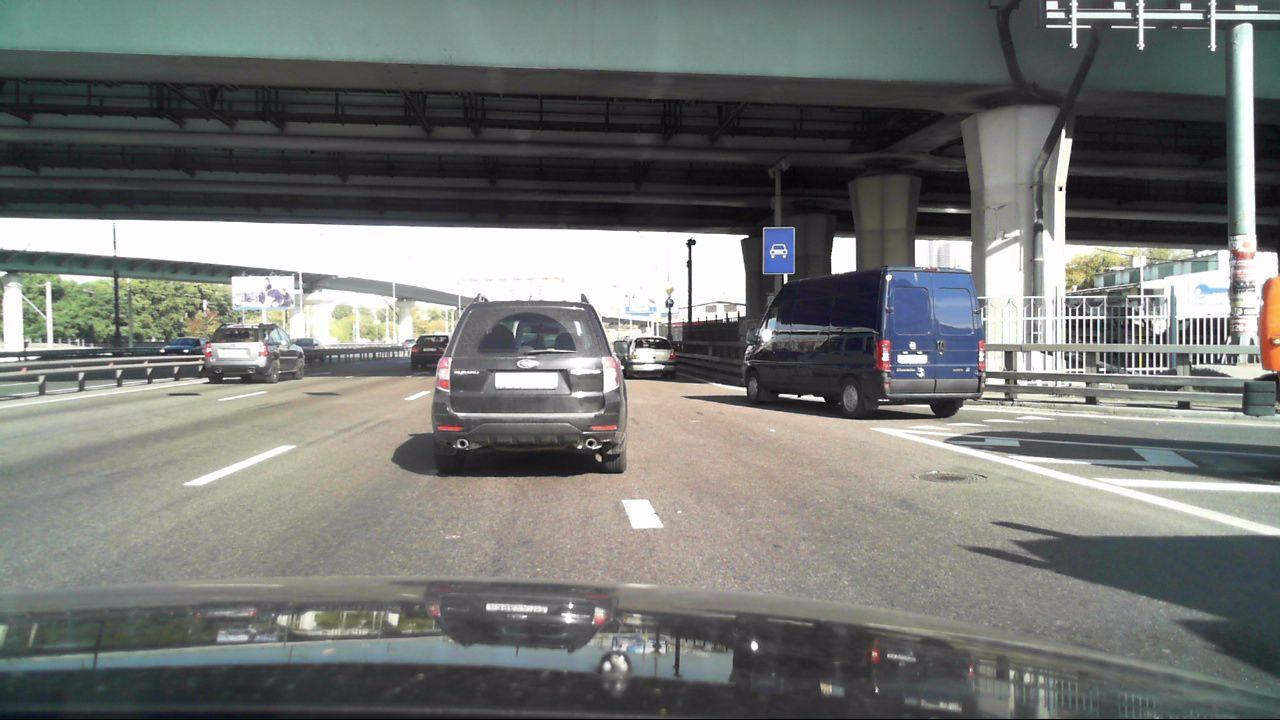2_1: (662, 282, 676, 296)
5_3: (761, 226, 793, 276)
